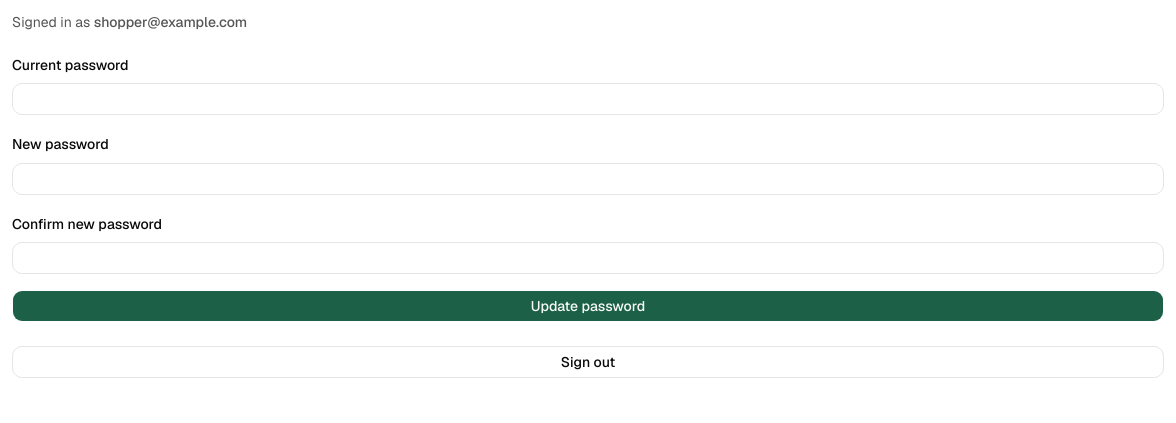
Test: ChangePasswordForm › maps HTTP 401 to actionable feedback
This screenshot has width=1176, height=423.
Type "Customer123!" into the password field labelled "Current password" at (588, 99), box [12,83,1164,115]
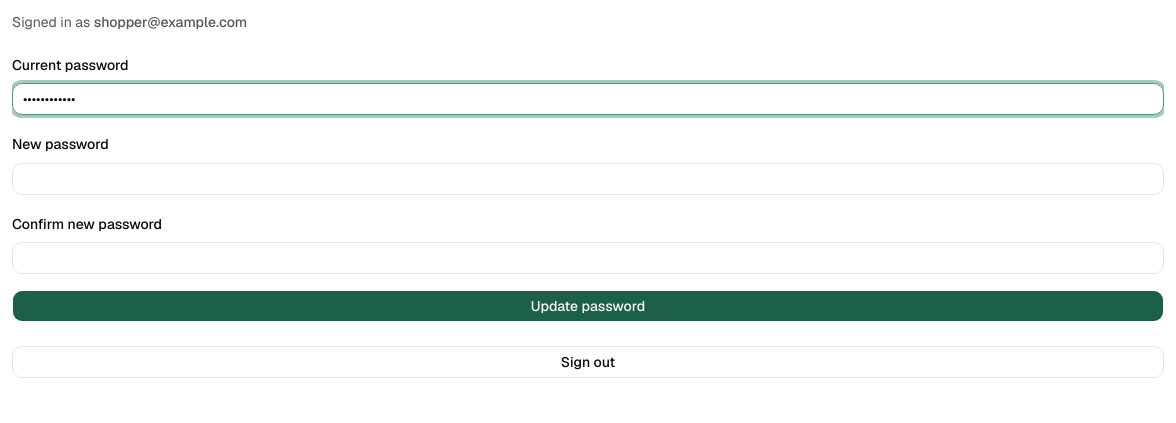
Type "Rotated123!" into the password field labelled "New password" at (588, 178), box [12,162,1164,194]
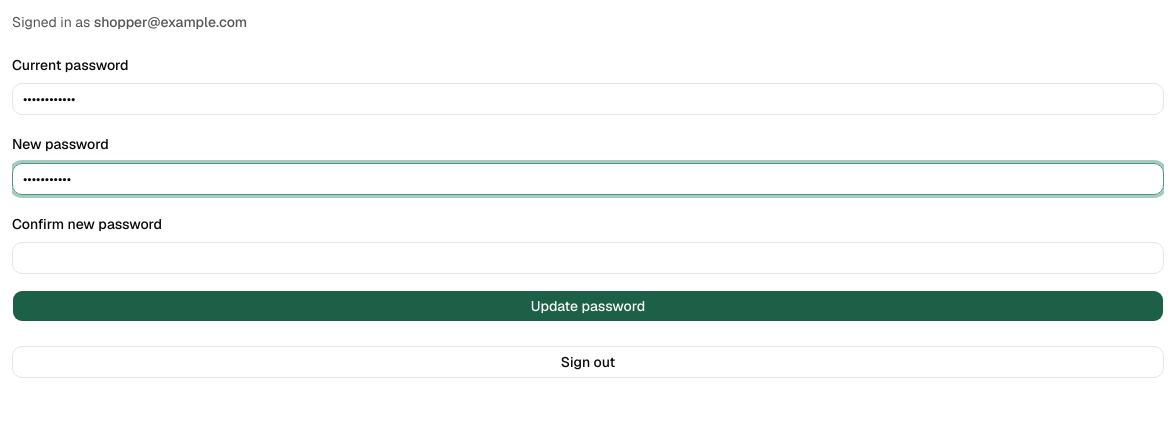
Type "Rotated123!" into the password field labelled "Confirm new password" at (588, 258), box [12,242,1164,274]
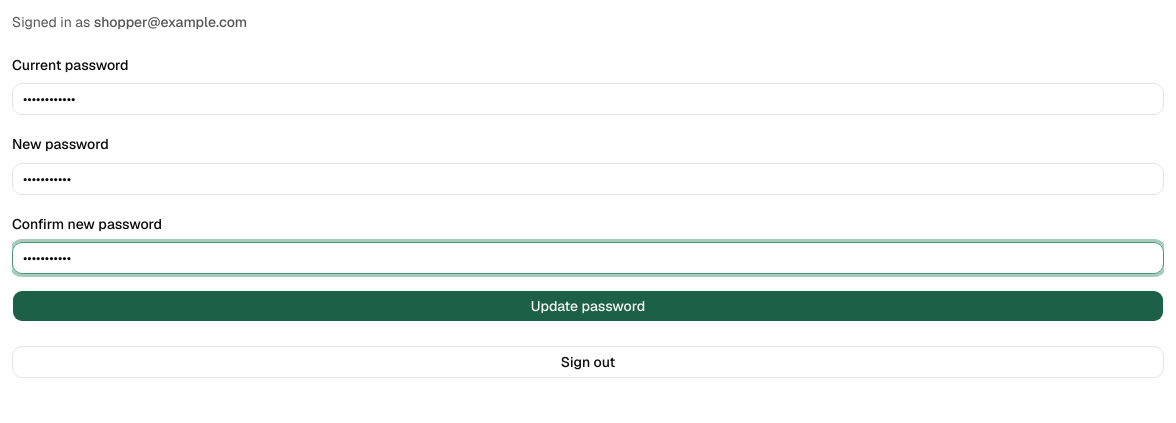
Click the button "Update password" at (588, 306), box [12,290,1164,322]
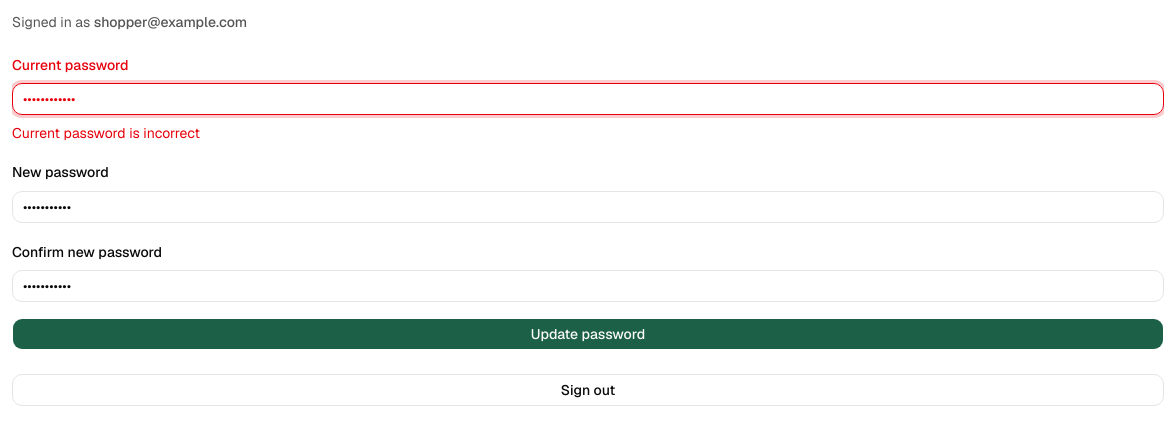
Now the text "Current password is incorrect" is shown, box [12,124,200,142]
